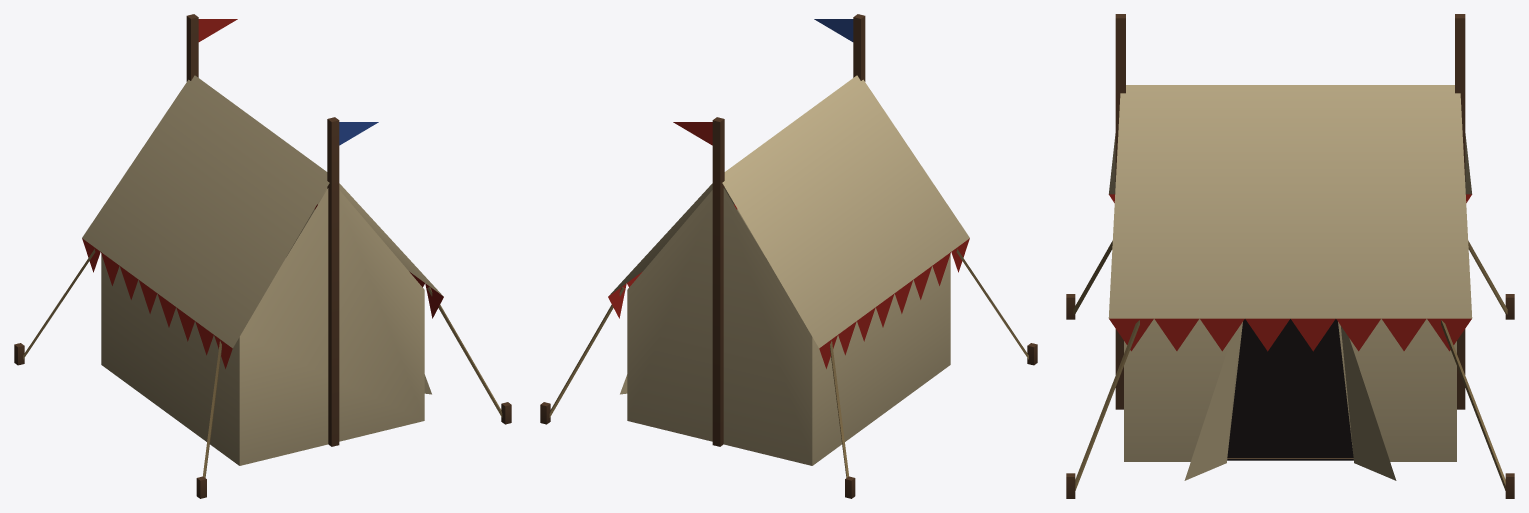
The model's file is b_tent.glb.
3 renders of one model, left to right at view 1: azimuth 30°, elevation 25°; view 2: azimuth 150°, elevation 25°; view 3: azimuth 270°, elevation 25°, orthographic. The views are drawn at different scales.
Visible parts, largest first — view 1: cloth, wood; view 2: cloth, wood; view 3: cloth, plain, wood.
Boxes of the visible parts, <box> form: cloth: <box>23,19,502,477</box>; wood: <box>14,14,511,498</box>; cloth: <box>549,19,1028,477</box>; wood: <box>540,14,1037,498</box>; cloth: <box>1073,85,1507,490</box>; plain: <box>1227,319,1353,460</box>; wood: <box>1066,14,1514,498</box>.
Size of the model in its own units: 2.86 by 2.86 by 2.96.
